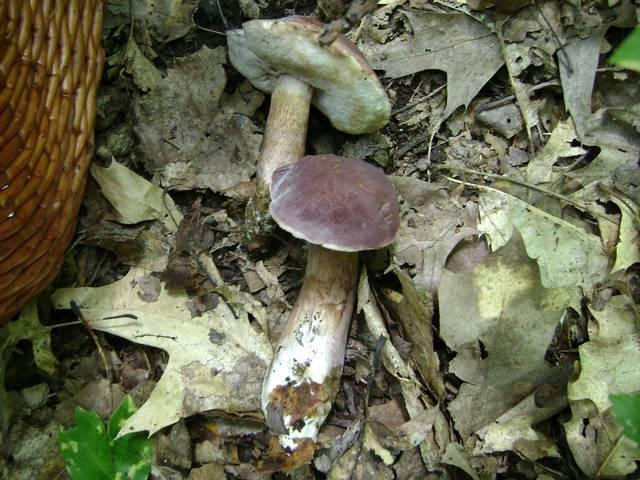poisonous_mushroom: (259, 152, 401, 448), (224, 14, 392, 246)
